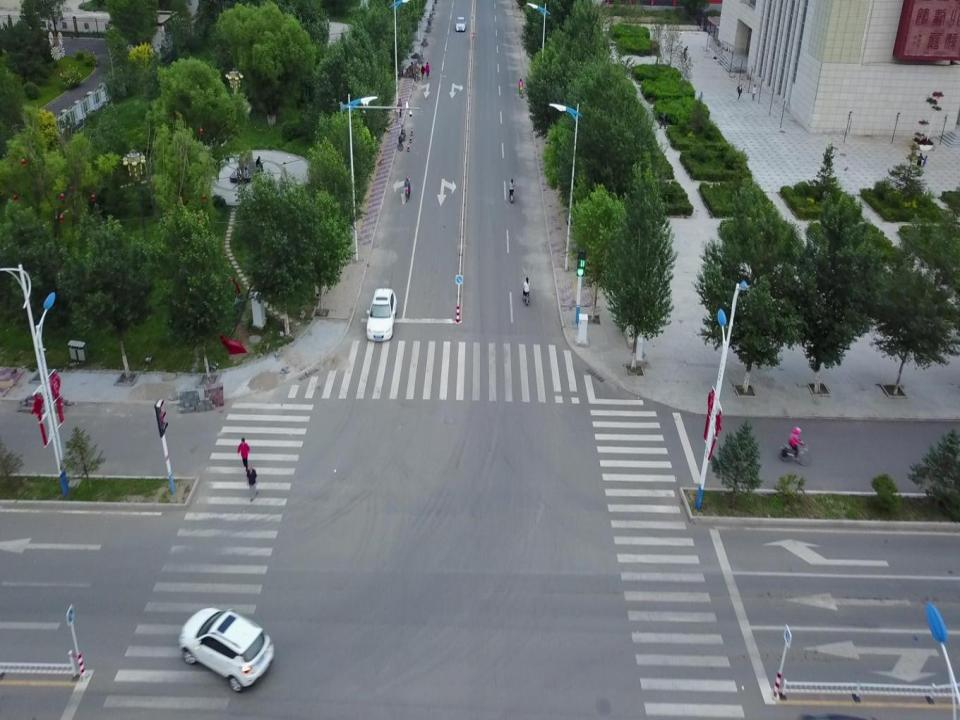car: (178, 606, 274, 694), (366, 287, 398, 342), (455, 16, 467, 32)
